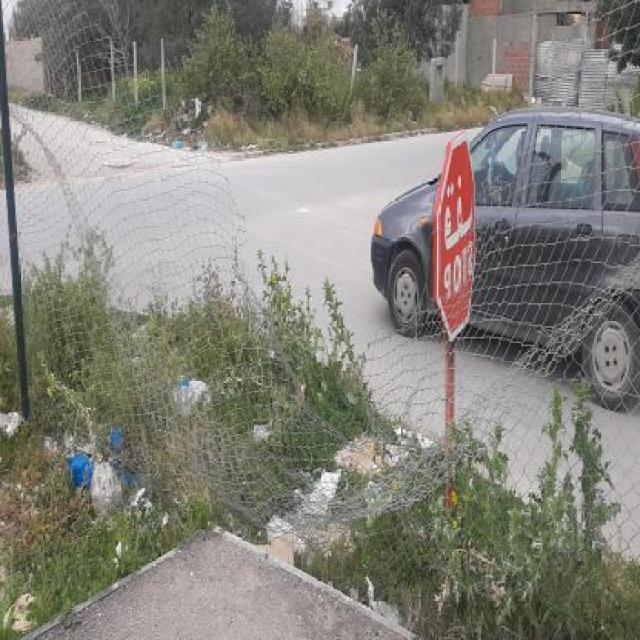fence line: (250, 223, 455, 429)
